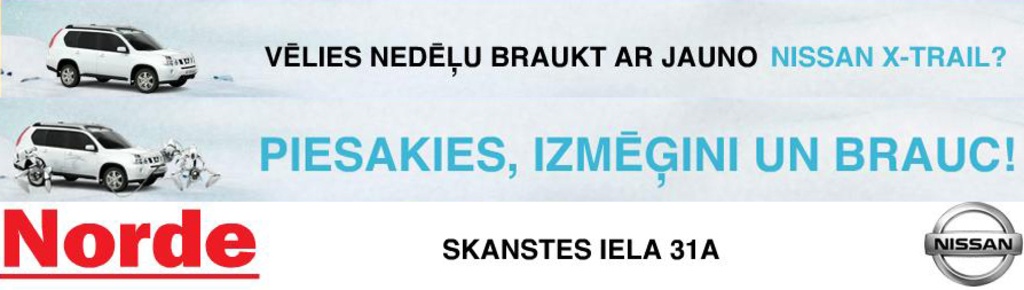cars: (12, 123, 165, 196), (45, 24, 196, 92)
